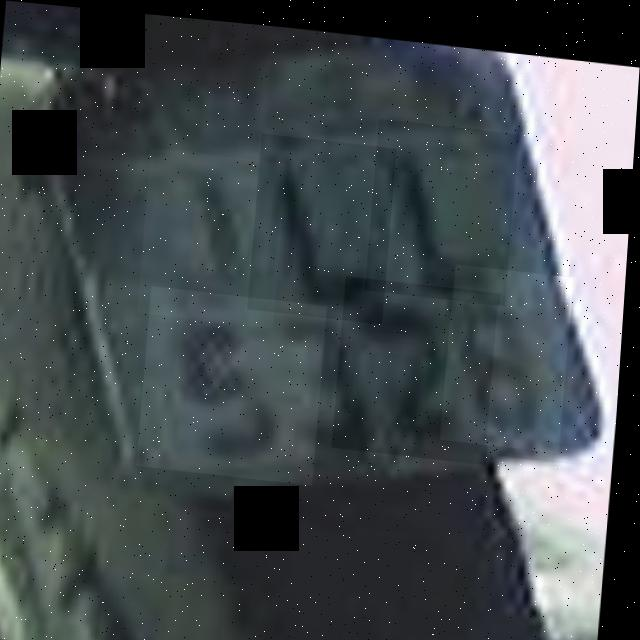2: (337, 268, 504, 455)
5: (142, 283, 331, 479)
8: (445, 254, 578, 441)
J: (368, 110, 520, 296), (251, 127, 398, 316), (141, 144, 289, 322)
